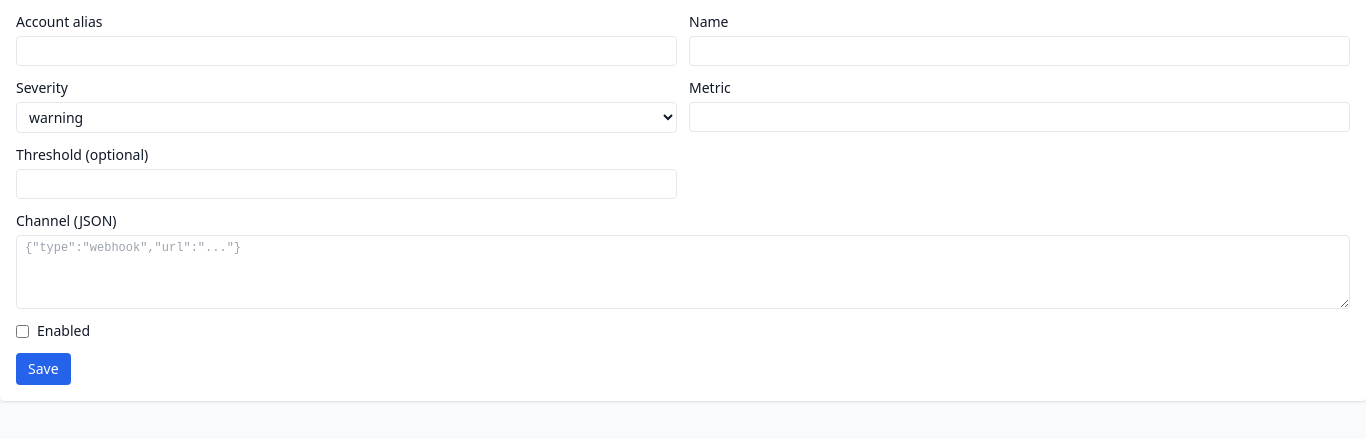
Test: RuleForm › shows required-field error when name missing
In the field with test id "input-account": (346, 51) [16,36,677,66], type "prod"
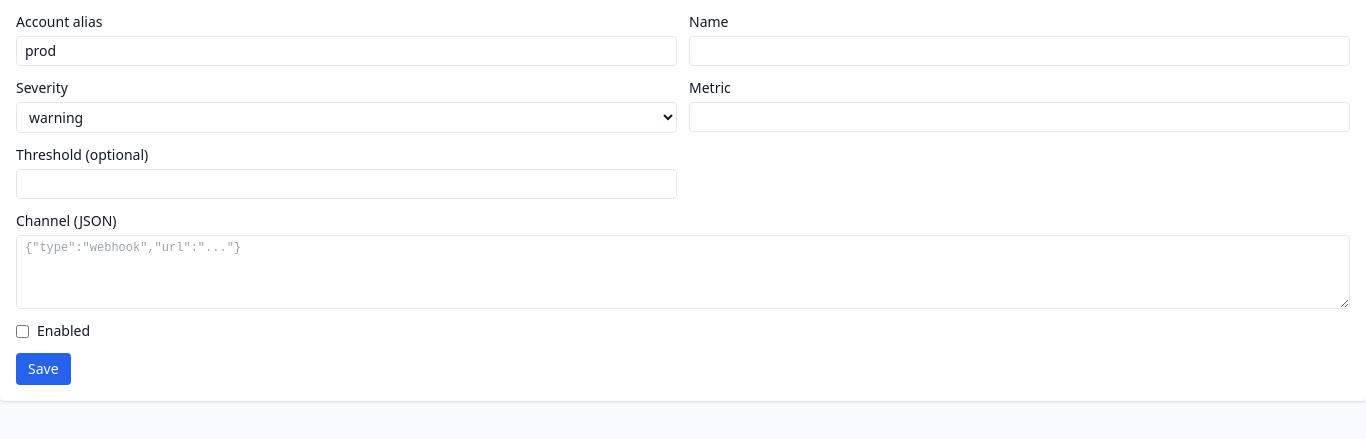
In the field with test id "input-metric": (1020, 117) [689,102,1350,132], type "cpu"
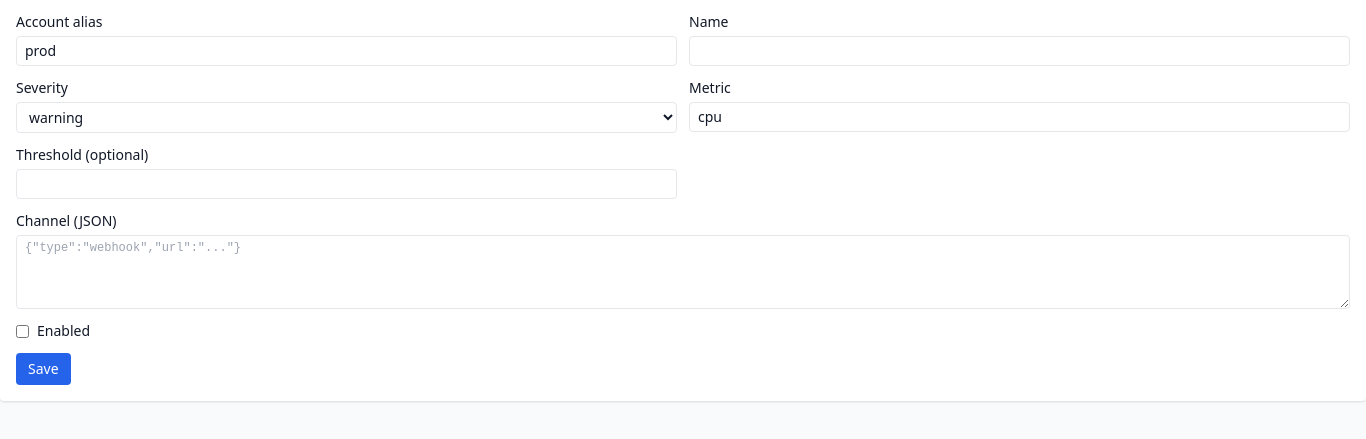
Click the button with test id "btn-submit": (43, 369) [16,353,71,385]
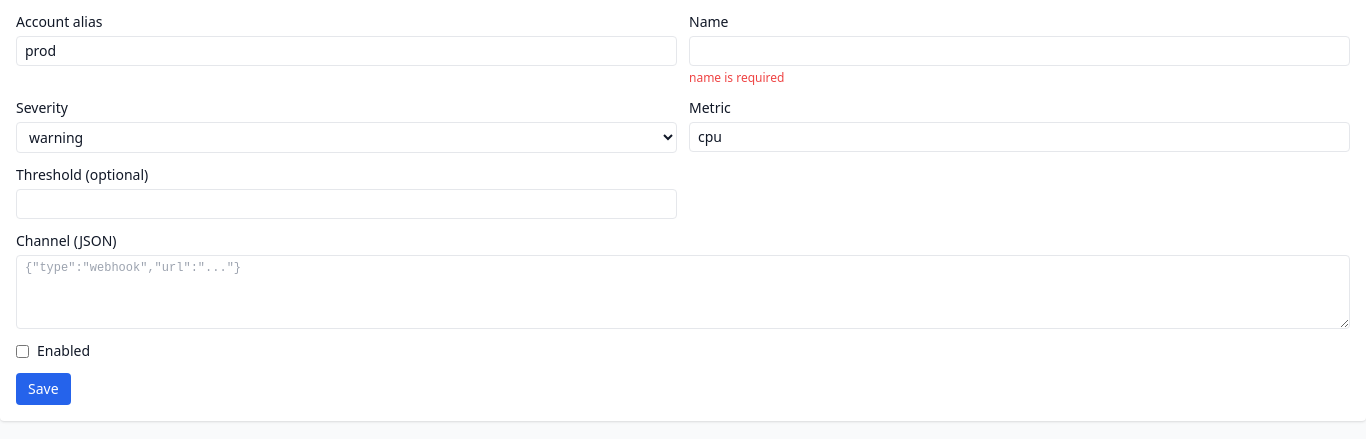
Now the text "name is required" is shown, box [689,69,784,86]
